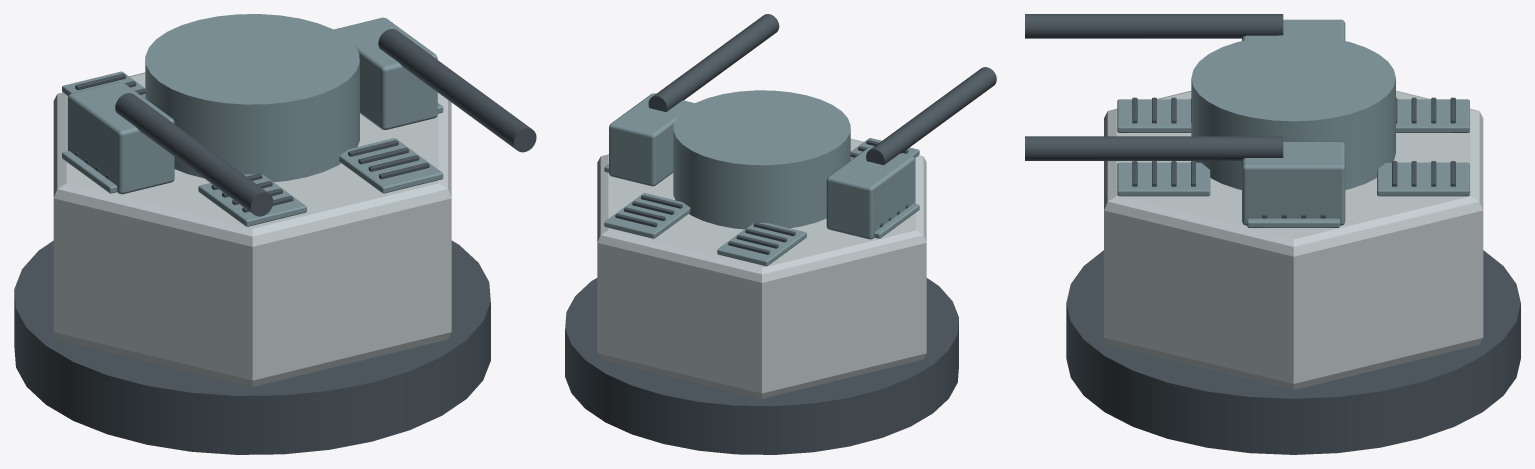
3 renders of one model, left to right at view 1: azimuth 30°, elevation 25°; view 2: azimuth 150°, elevation 25°; view 3: azimuth 270°, elevation 25°, orthographic. The views are drawn at different scales.
Parts seen in each view (by area): view 1: defence-platform; view 2: defence-platform; view 3: defence-platform.
Boxes of the visible parts, box(x1,y1,x2,y2) form: defence-platform: box(14, 14, 536, 454); defence-platform: box(565, 14, 996, 454); defence-platform: box(1025, 14, 1520, 454).
Size of the model in its own units: 4.4 by 3.02 by 4.8.
